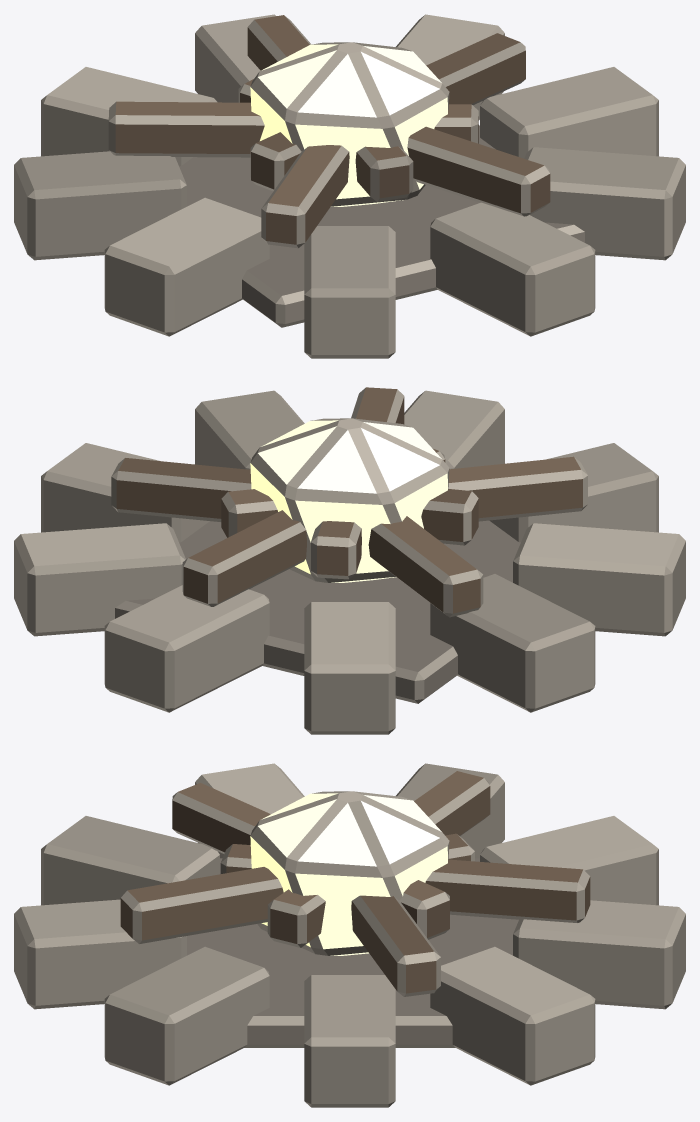
The model's file is SM_Kit_fogueira.fbx.
The picture shows the model from 3 angles, top to bottom: view 1: azimuth 30°, elevation 25°; view 2: azimuth 150°, elevation 25°; view 3: azimuth 270°, elevation 25°; orthographic projection.
Visible parts, largest first — view 1: SM_Kit_fogueira; view 2: SM_Kit_fogueira; view 3: SM_Kit_fogueira.
Part boxes in pixels (x1=…): SM_Kit_fogueira: x1=14, y1=14, x2=685, y2=358; SM_Kit_fogueira: x1=14, y1=387, x2=685, y2=734; SM_Kit_fogueira: x1=14, y1=763, x2=685, y2=1107.
Size of what is drawn, in the model's own units: 188 by 54.01 by 191.
